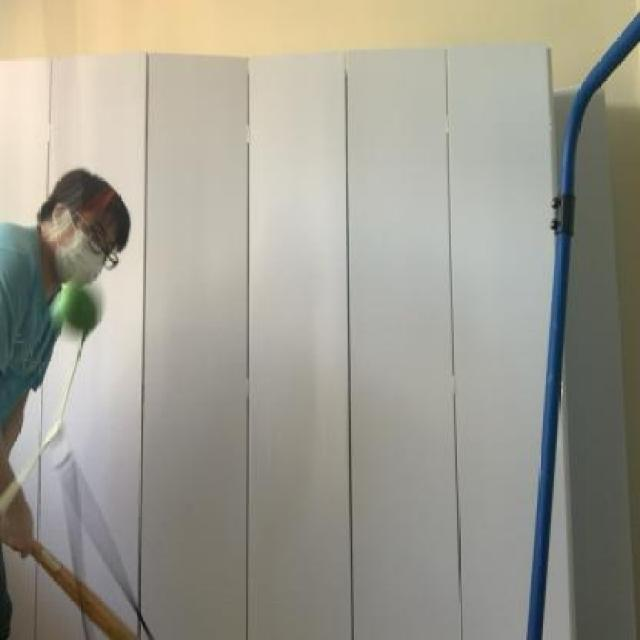baseball: (44, 272, 116, 336)
